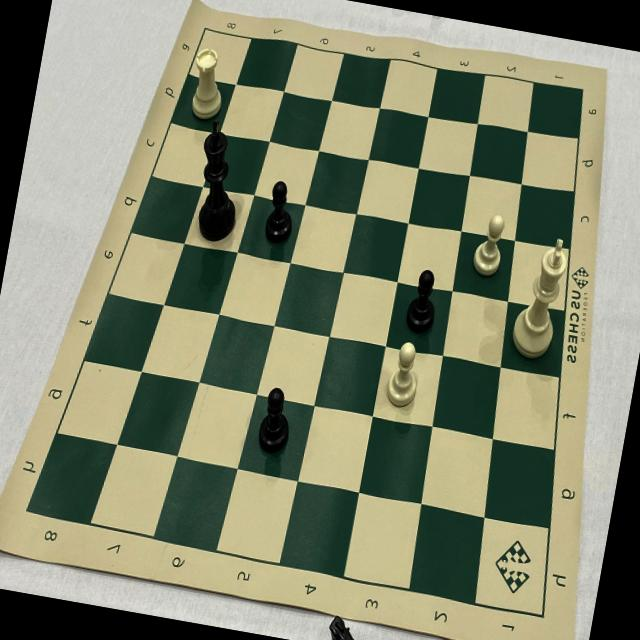black-king: (180, 114, 256, 254)
black-pawn: (250, 378, 300, 462), (397, 260, 444, 339), (256, 172, 301, 250)
white-king: (499, 228, 576, 370)
white-pawn: (377, 336, 427, 412), (467, 206, 514, 281)
white-rook: (178, 40, 232, 128)
